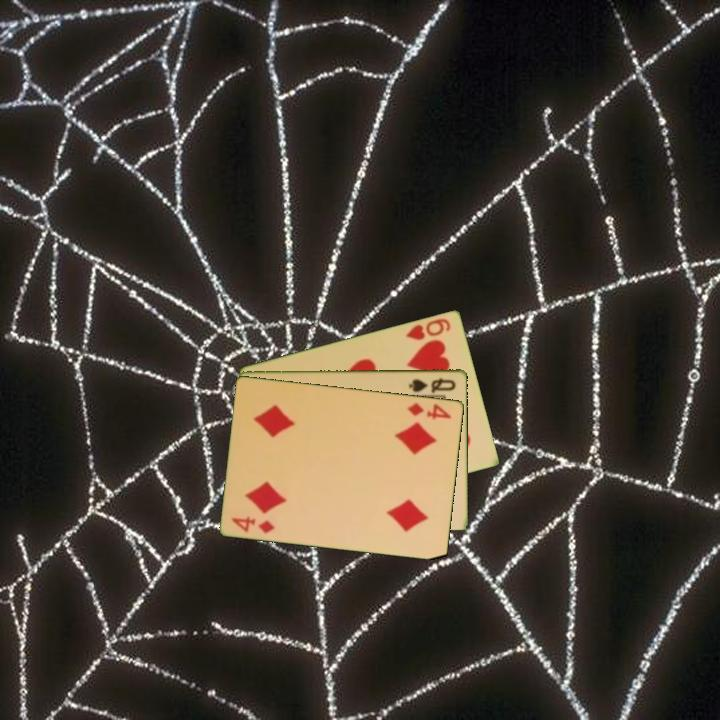4d: (404, 399, 454, 422), (228, 513, 278, 536)
6h: (402, 314, 454, 343)
Qs: (406, 374, 459, 395)
